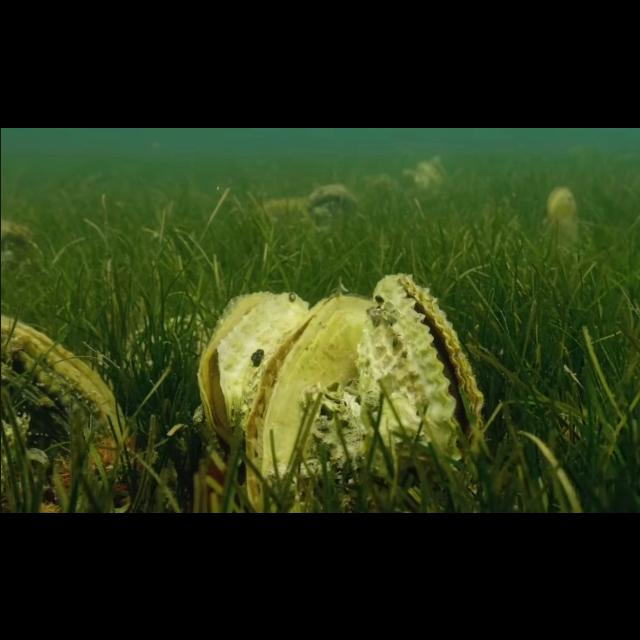Oyster-Closed: (0, 311, 126, 514), (303, 181, 362, 221)
Oyster-Open: (353, 272, 485, 508), (242, 293, 374, 513), (195, 290, 311, 454), (546, 183, 580, 230), (418, 153, 450, 191)
